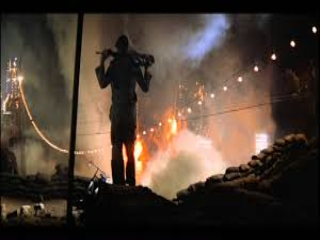fire: (140, 110, 191, 143)
smoke: (150, 138, 226, 197)
